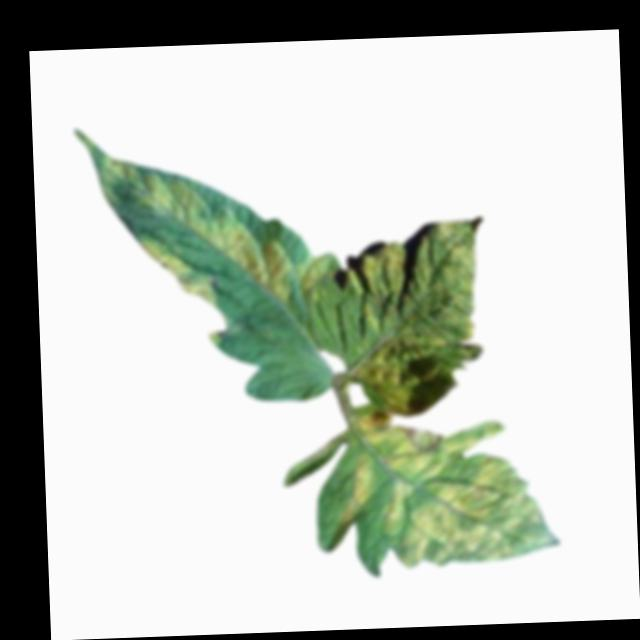Leaf_Mold: (96, 147, 335, 317), (325, 415, 563, 573), (347, 215, 491, 420), (142, 236, 217, 311)
